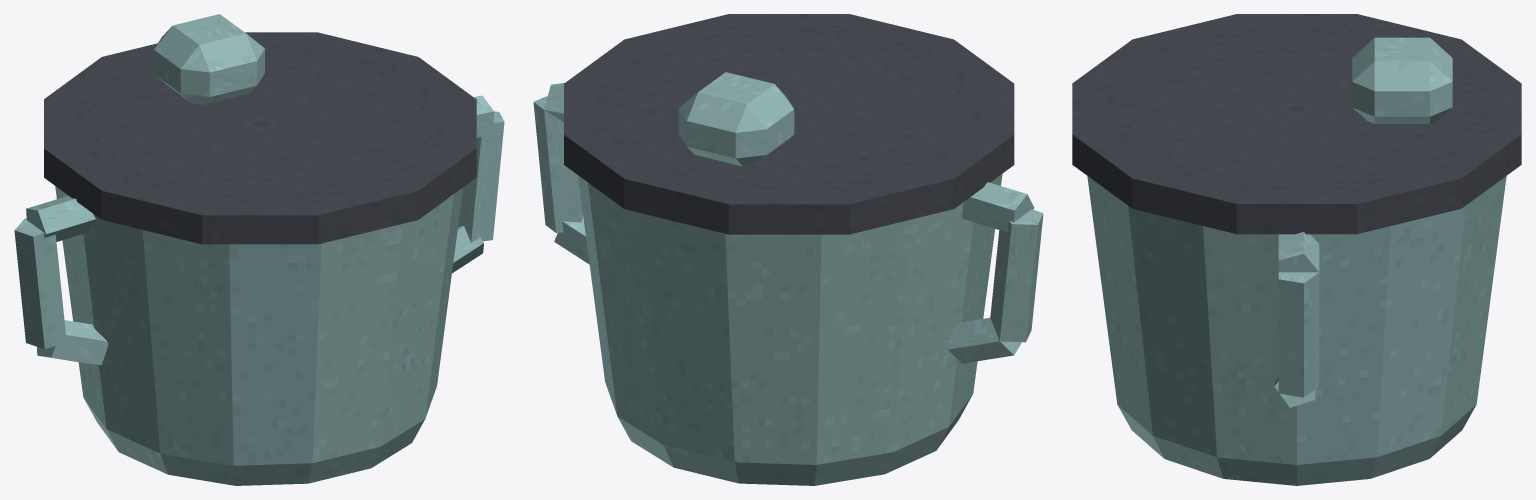
File: sippy_cup.glb
3 renders of one model, left to right at view 1: azimuth 30°, elevation 25°; view 2: azimuth 150°, elevation 25°; view 3: azimuth 270°, elevation 25°, orthographic. The views are drawn at different scales.
Parts seen in each view (by area): view 1: block_hollow cup bowl, block_snap lid, block_handle 1 (×2), block_sipping spout, block_handle 2 (×2), block_handle 0 (×2); view 2: block_hollow cup bowl, block_snap lid, block_handle 1 (×2), block_sipping spout, block_handle 2 (×2), block_handle 0 (×2); view 3: block_hollow cup bowl, block_snap lid, block_sipping spout, block_handle 1, block_handle 0.
Boxes of the visible parts, box(x1,y1,x2,y2) form: block_hollow cup bowl: box(55, 186, 463, 485); block_snap lid: box(44, 32, 476, 244); block_handle 1 (×2): box(14, 111, 504, 349); block_sipping spout: box(154, 14, 264, 104); block_handle 2 (×2): box(37, 226, 483, 364); block_handle 0 (×2): box(26, 95, 494, 241); block_hollow cup bowl: box(578, 174, 1002, 485); block_snap lid: box(564, 14, 1014, 234); block_handle 1 (×2): box(533, 96, 1043, 342); block_sipping spout: box(678, 72, 794, 166); block_handle 2 (×2): box(554, 216, 1021, 363); block_handle 0 (×2): box(544, 83, 1034, 232); block_hollow cup bowl: box(1087, 176, 1506, 485); block_snap lid: box(1072, 14, 1521, 234); block_sipping spout: box(1352, 37, 1452, 123); block_handle 1: box(1278, 272, 1319, 397); block_handle 0: box(1278, 232, 1319, 272).
Size of the model in its own units: 0.0955 by 0.0661 by 0.0738.
Materials: 1 (1 with a texture image).
